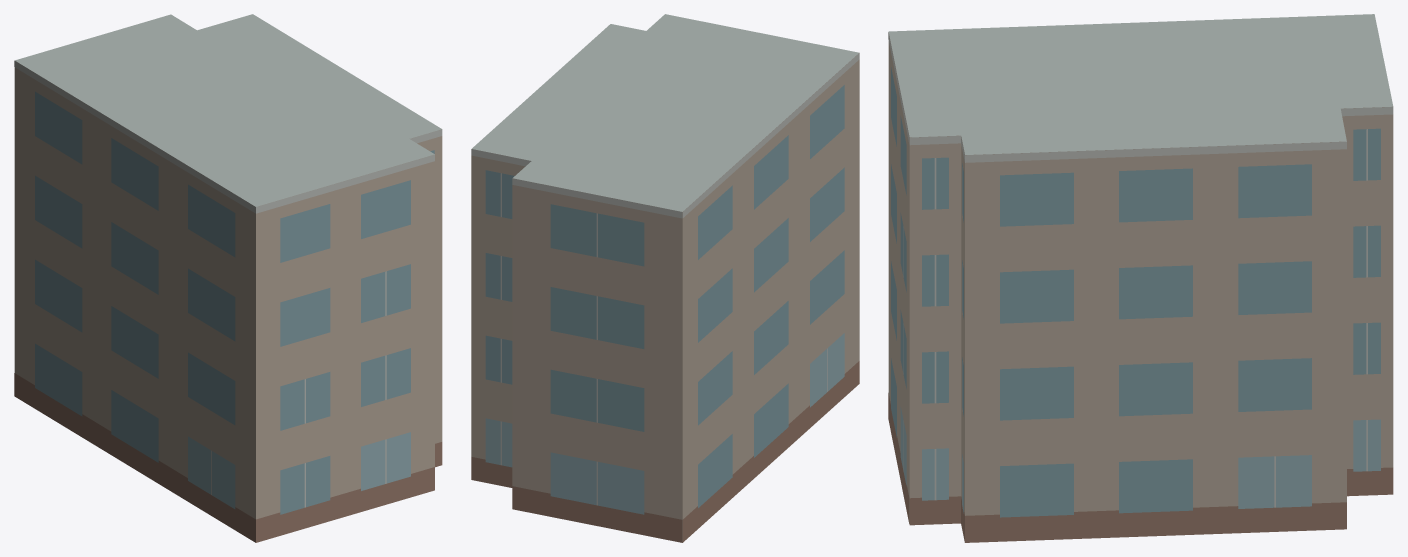
The model's file is residential-cd921e9c-ae8c-4d87-9199-d92448ce500c.glb.
3 renders of one model, left to right at view 1: azimuth 30°, elevation 25°; view 2: azimuth 150°, elevation 25°; view 3: azimuth 270°, elevation 25°, orthographic. The views are drawn at different scales.
Parts seen in each view (by area): view 1: residential-cd921e9c-ae8c-4d87-9199-d92448ce500c.tmp; view 2: residential-cd921e9c-ae8c-4d87-9199-d92448ce500c.tmp; view 3: residential-cd921e9c-ae8c-4d87-9199-d92448ce500c.tmp.
Part boxes in pixels (x1=…): residential-cd921e9c-ae8c-4d87-9199-d92448ce500c.tmp: x1=14, y1=14, x2=442, y2=542; residential-cd921e9c-ae8c-4d87-9199-d92448ce500c.tmp: x1=471, y1=14, x2=859, y2=542; residential-cd921e9c-ae8c-4d87-9199-d92448ce500c.tmp: x1=888, y1=14, x2=1393, y2=542.
Bounding box in the file's own units: 9.53 × 12.2 × 14.41.
